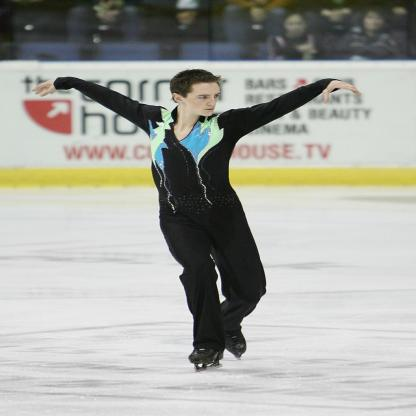face: (186, 83, 222, 117), (286, 15, 305, 36), (364, 13, 382, 31), (178, 12, 196, 24)
